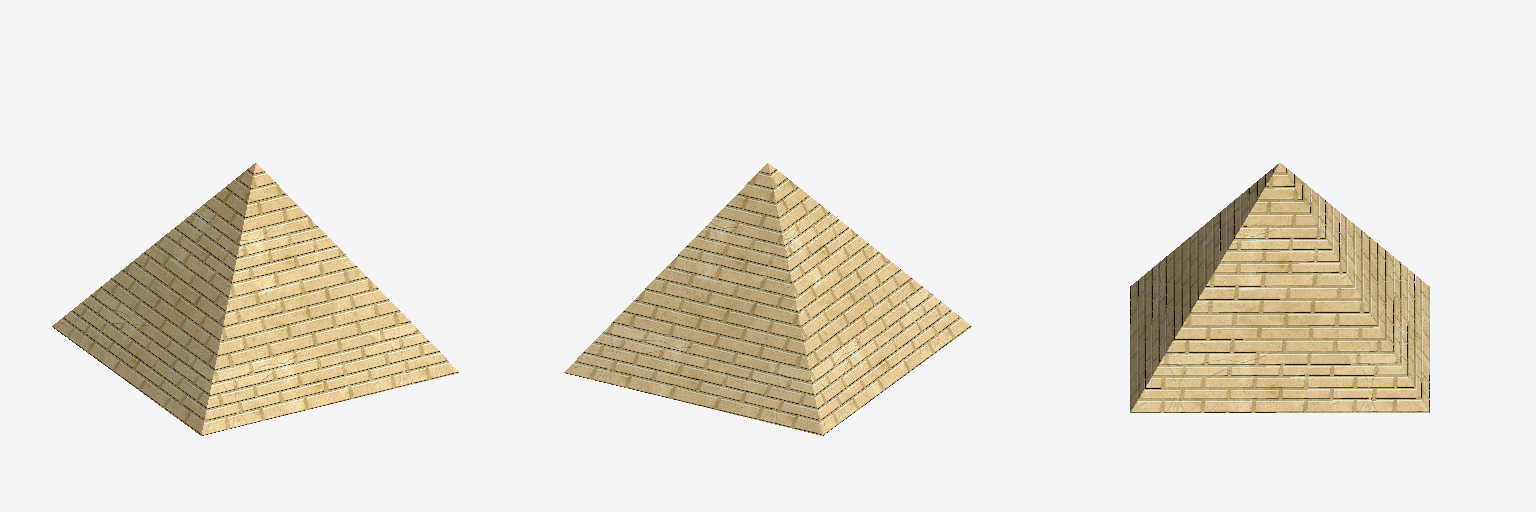
3 renders of one model, left to right at view 1: azimuth 30°, elevation 25°; view 2: azimuth 150°, elevation 25°; view 3: azimuth 270°, elevation 25°, orthographic.
Visible parts, largest first — view 1: Cube_Cube.002; view 2: Cube_Cube.002; view 3: Cube_Cube.002.
Boxes of the visible parts, x1,y1,x2,y2 form: Cube_Cube.002: [52, 163, 459, 435]; Cube_Cube.002: [564, 163, 971, 435]; Cube_Cube.002: [1130, 163, 1429, 412].
Size of the model in its own units: 2 by 1.38 by 2.
1 materials, 1 textured.